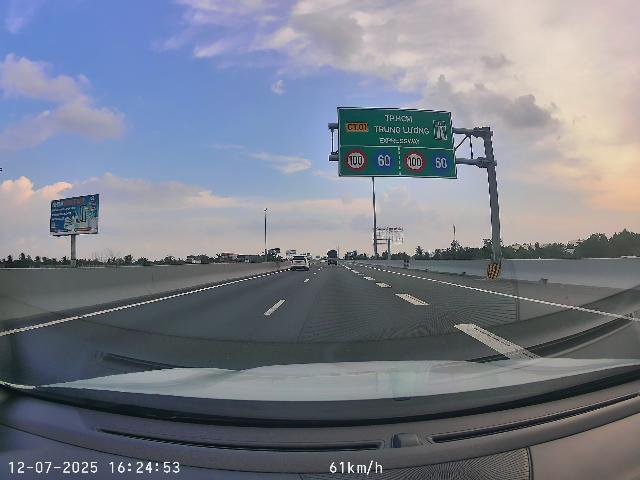127-toc-do-toi-da-100: (344, 149, 367, 172), (404, 151, 426, 173)
306-toc-do-toi-thieu-60: (430, 152, 451, 174), (373, 150, 394, 171)
437-bat-dau-duong-cao-toc: (432, 120, 447, 140)
